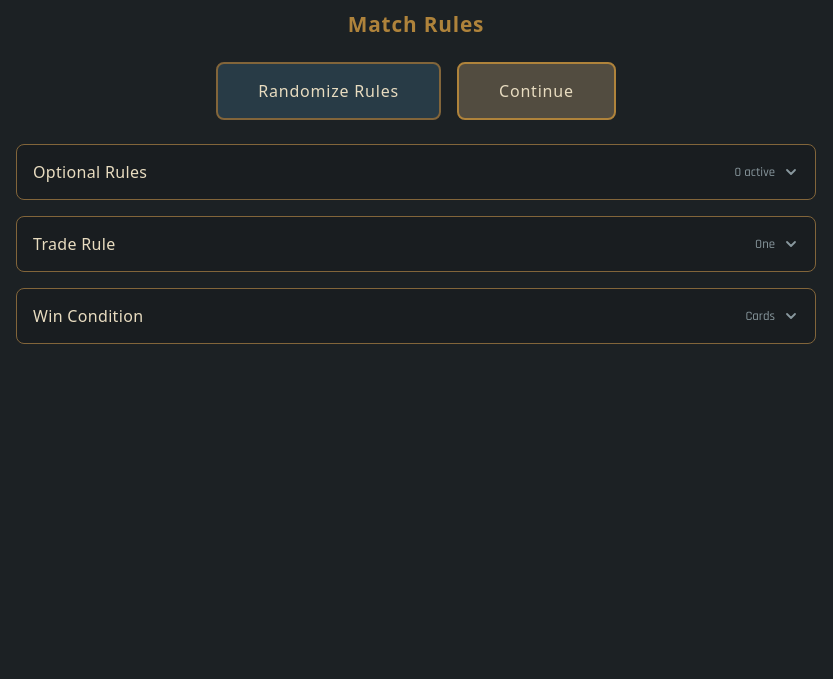
RuleSelectScreen accordion behaviour › the Optional Rules header shows a live count of currently-active rules, even while collapsed
Click the button "Optional Rules 0 active".
click(90, 172)  # box [17,145,815,199]
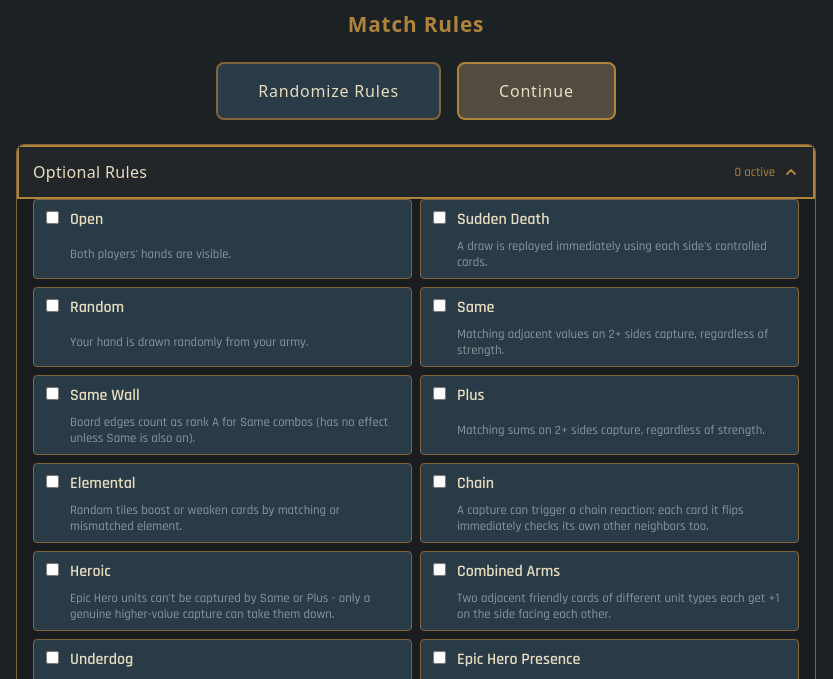
Click the checkbox labelled "Same Matching".
click(440, 306)  # box [433,299,446,312]
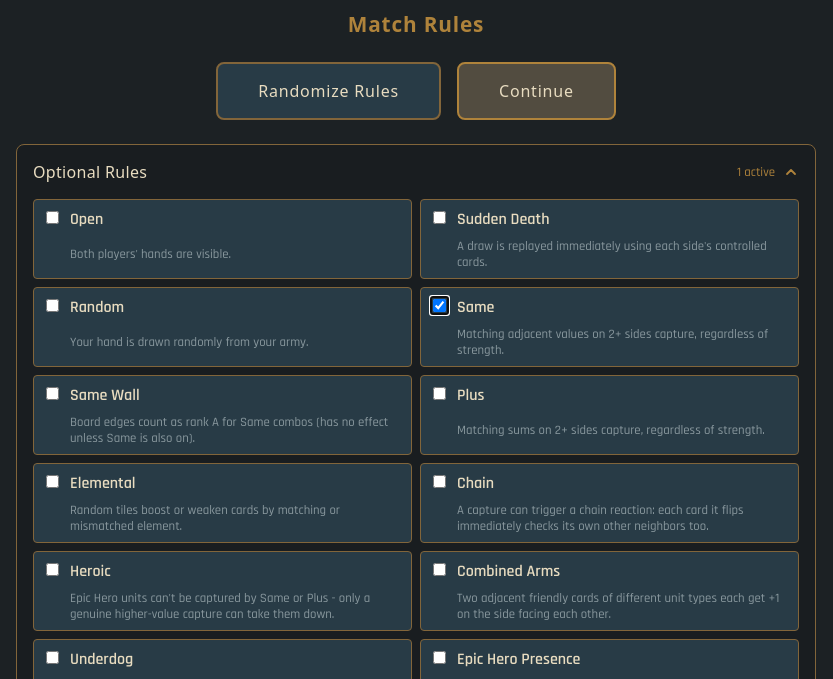
Click the button "Optional Rules 1 active".
click(90, 172)  # box [17,145,815,199]
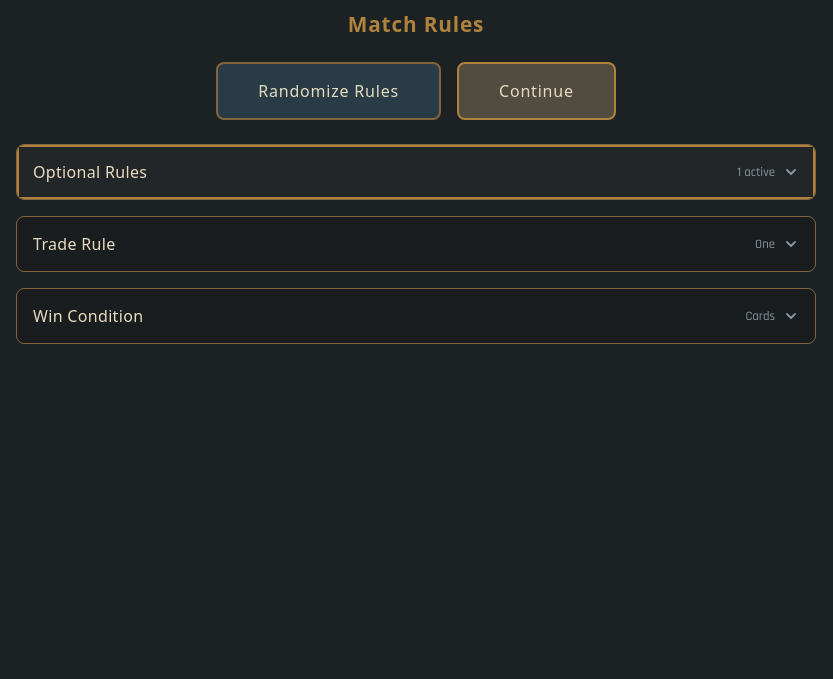
Expected: the button "Optional Rules 1 active" is shown, [17,145,815,199]
Expected: the button "Optional Rules 1 active" is collapsed, [17,145,815,199]
